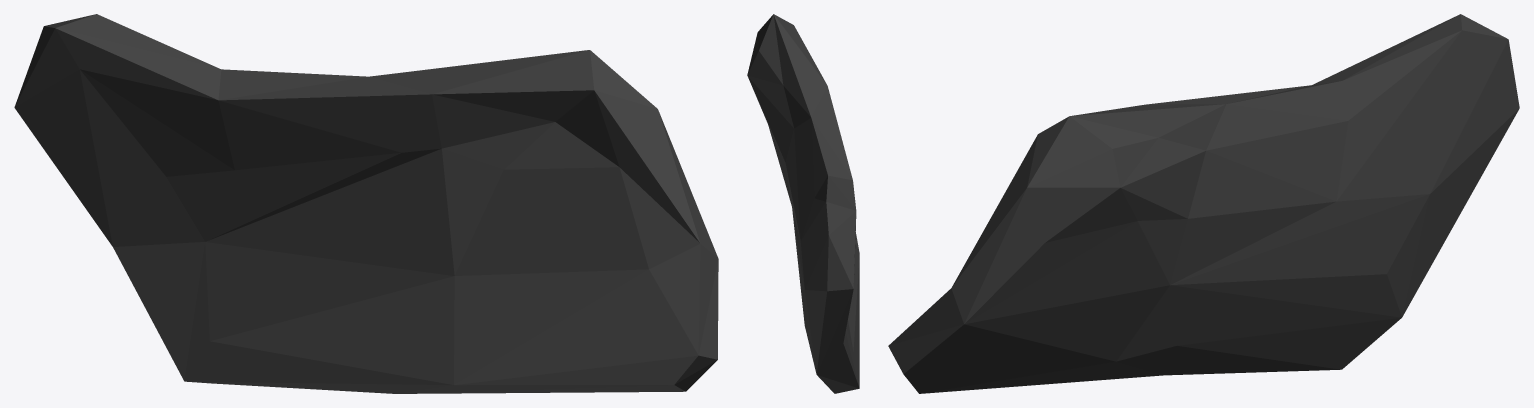
Rendered from Tibia_cranial_intercondyloid_area.glb.
The picture shows the model from 3 angles, left to right: view 1: azimuth 30°, elevation 25°; view 2: azimuth 150°, elevation 25°; view 3: azimuth 270°, elevation 25°; orthographic projection. The views are drawn at different scales.
Visible parts, largest first — view 1: Tibia_cranial_intercondyloid_area; view 2: Tibia_cranial_intercondyloid_area; view 3: Tibia_cranial_intercondyloid_area.
Boxes of the visible parts, x1,y1,x2,y2 form: Tibia_cranial_intercondyloid_area: [14, 14, 718, 393]; Tibia_cranial_intercondyloid_area: [747, 14, 859, 393]; Tibia_cranial_intercondyloid_area: [888, 14, 1519, 393].
Bounding box in the file's own units: 0.0113 × 0.00991 × 0.0157.
Materials: 1 (1 with a texture image).
